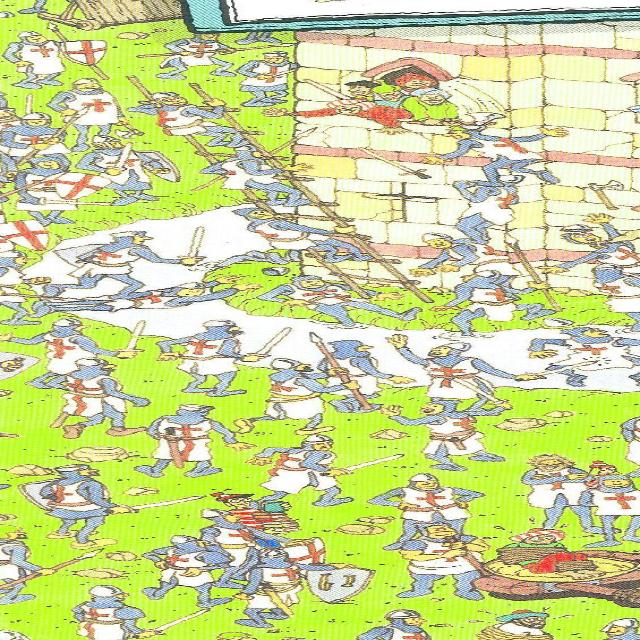waldo: (209, 492, 255, 507)
